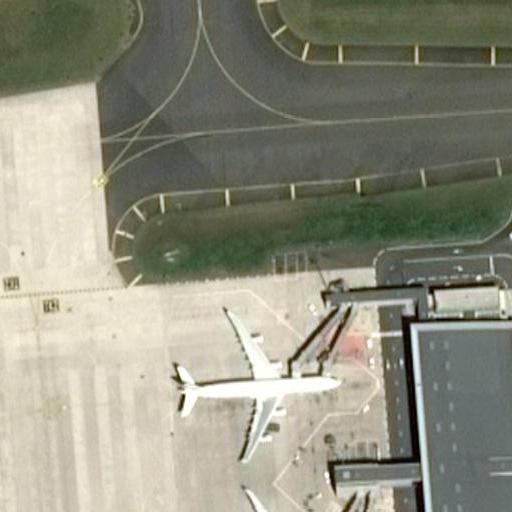Aircraft: (156, 304, 346, 453), (172, 479, 375, 512)
